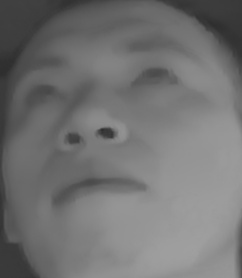eye: (123, 59, 187, 96), (22, 75, 73, 113)
mouth: (50, 160, 147, 215)
